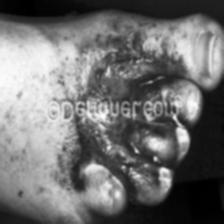Toxin: (68, 122, 190, 202), (88, 36, 186, 98)
